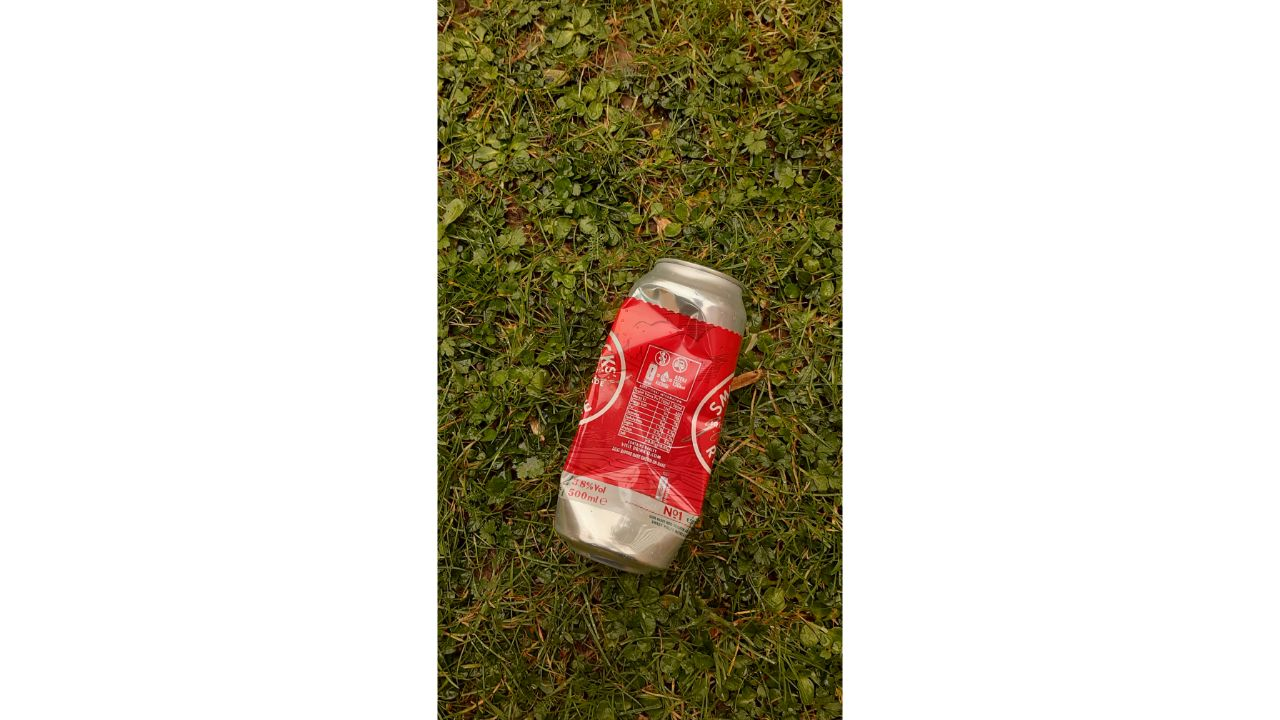Can: (554, 256, 749, 575)
